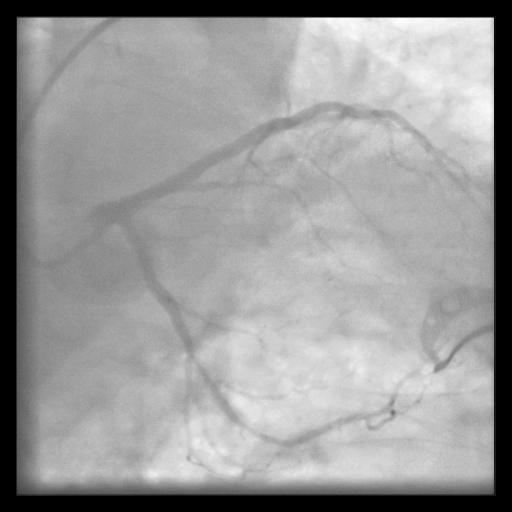Stenosis: (190, 353, 222, 400)
